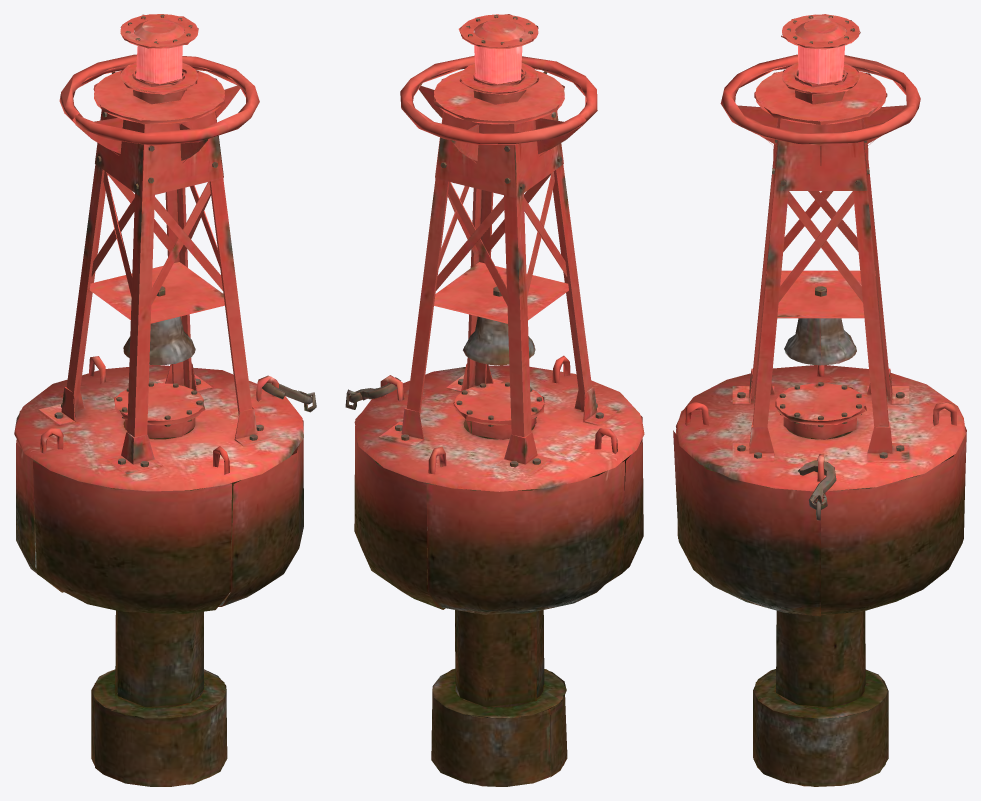
File: isl_buoy.glb
The picture shows the model from 3 angles, left to right: view 1: azimuth 30°, elevation 25°; view 2: azimuth 150°, elevation 25°; view 3: azimuth 270°, elevation 25°; orthographic projection.
Parts seen in each view (by area): view 1: ocean_buoy; view 2: ocean_buoy; view 3: ocean_buoy.
Part boxes in pixels (x1=…): ocean_buoy: x1=14, y1=14, x2=316, y2=786; ocean_buoy: x1=345, y1=14, x2=644, y2=786; ocean_buoy: x1=673, y1=14, x2=966, y2=786.
Size of the model in its own units: 1.07 by 2.65 by 0.9644.
Materials: 1 (1 with a texture image).
